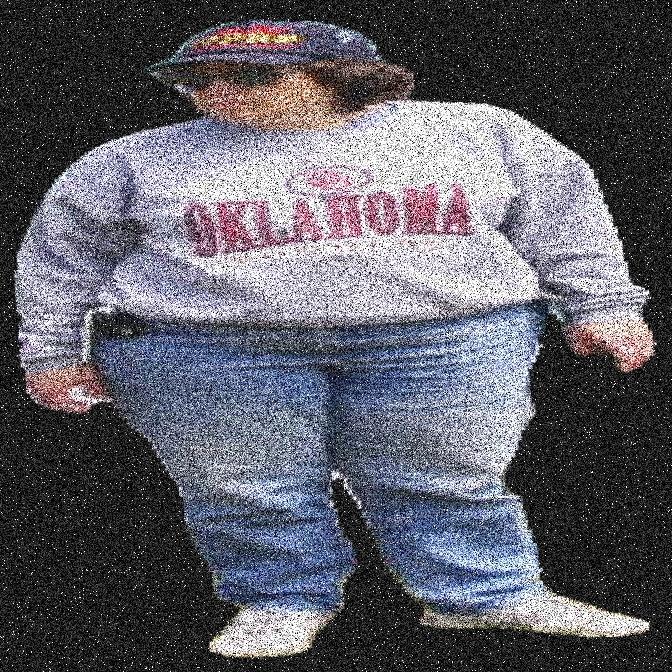Pessoa: (333, 0, 413, 671)
